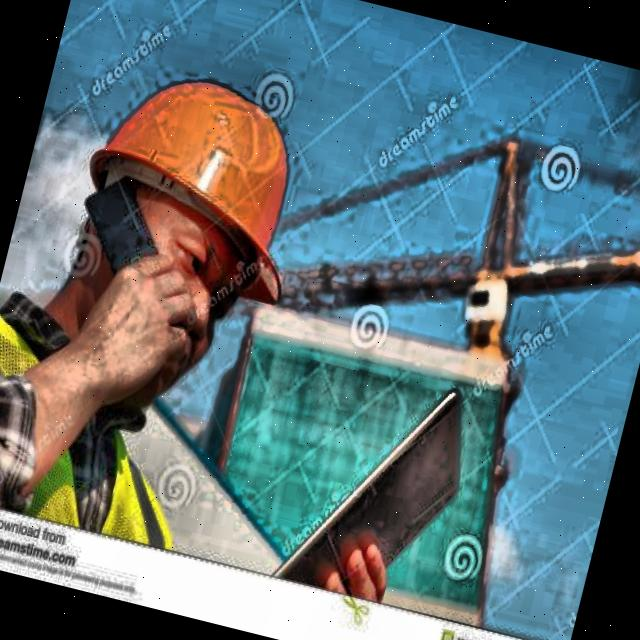helmet: (13, 19, 348, 430)
